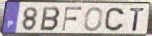8: (21, 6, 39, 32)
B: (39, 6, 62, 33)
C: (103, 7, 126, 33)
F: (61, 7, 84, 33)
O: (83, 6, 105, 32)
T: (129, 7, 147, 32)
